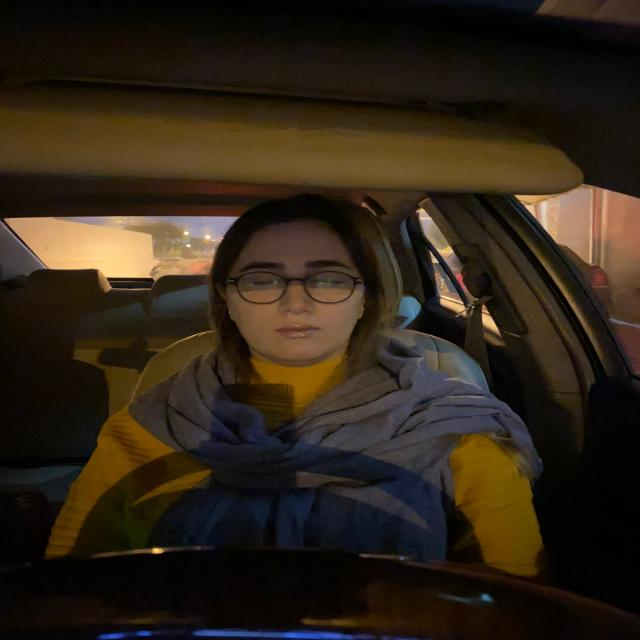drowsy: (201, 191, 391, 392)
